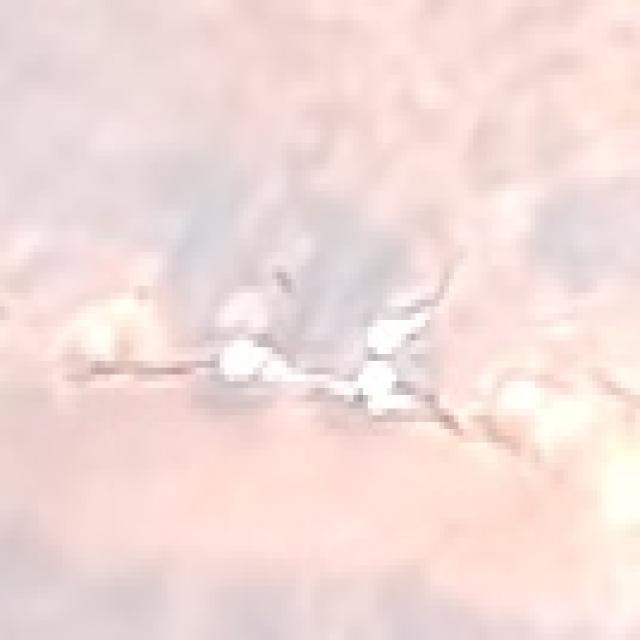crack: (68, 314, 403, 498)
